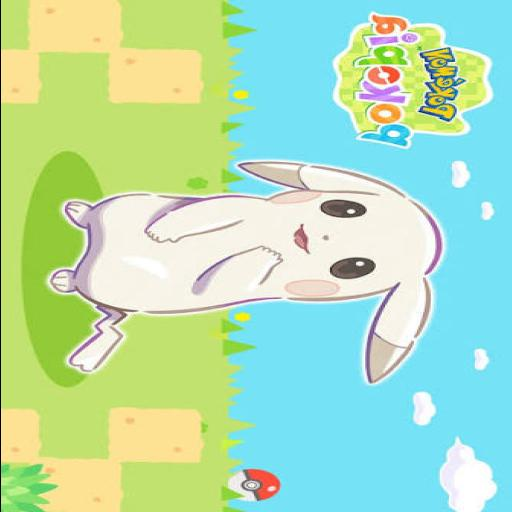Pikachu: (44, 160, 441, 384)
